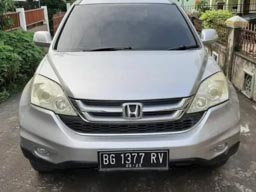plat: (97, 151, 169, 163)
